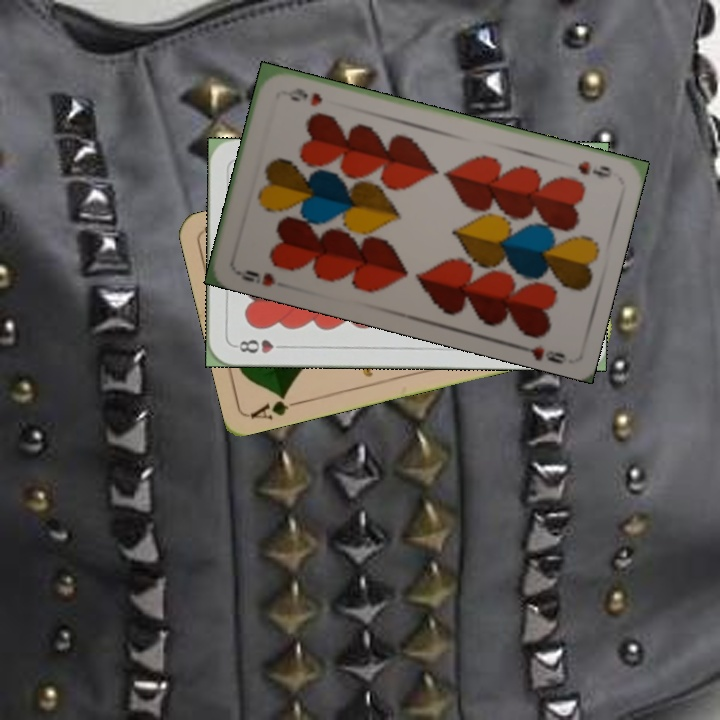GA: (247, 389, 306, 422)
H8: (231, 335, 290, 356)
H9: (232, 266, 278, 289), (574, 157, 615, 181)
